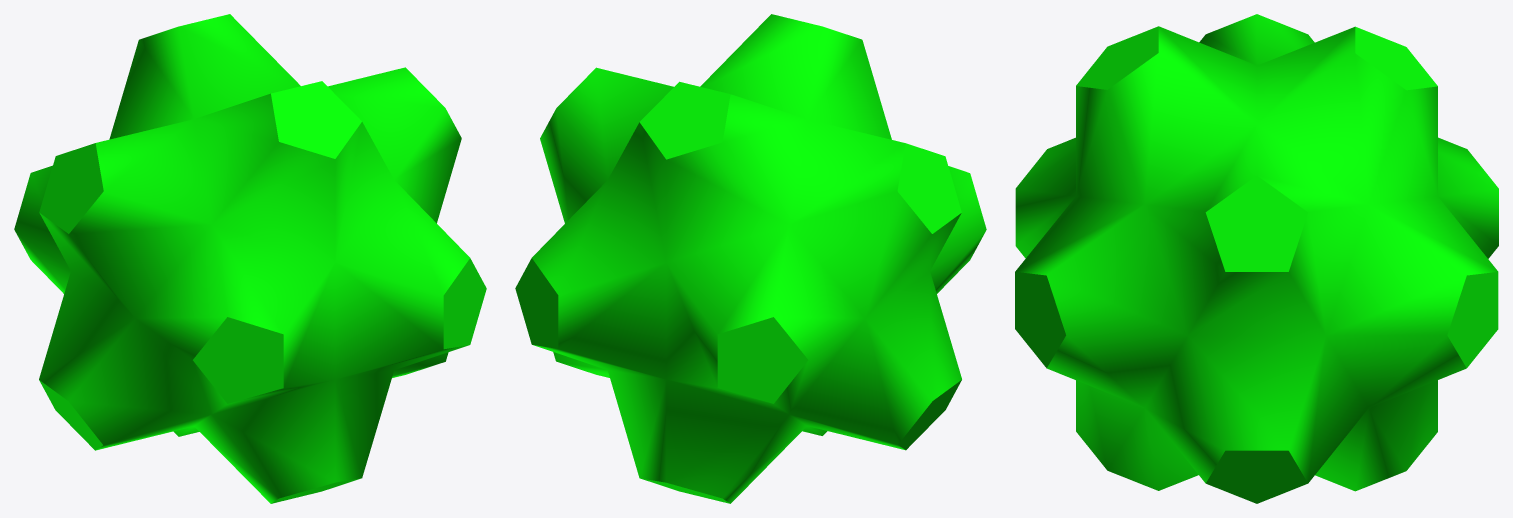
File: Planeta_03.FBX
3 renders of one model, left to right at view 1: azimuth 30°, elevation 25°; view 2: azimuth 150°, elevation 25°; view 3: azimuth 270°, elevation 25°, orthographic. The views are drawn at different scales.
Visible parts, largest first — view 1: Planeta_03; view 2: Planeta_03; view 3: Planeta_03.
Boxes of the visible parts, box(x1,y1,x2,y2) form: Planeta_03: box(14, 14, 486, 503); Planeta_03: box(515, 14, 986, 503); Planeta_03: box(1015, 14, 1498, 503).
Size of the model in its own units: 24.87 by 24.8 by 24.8.
